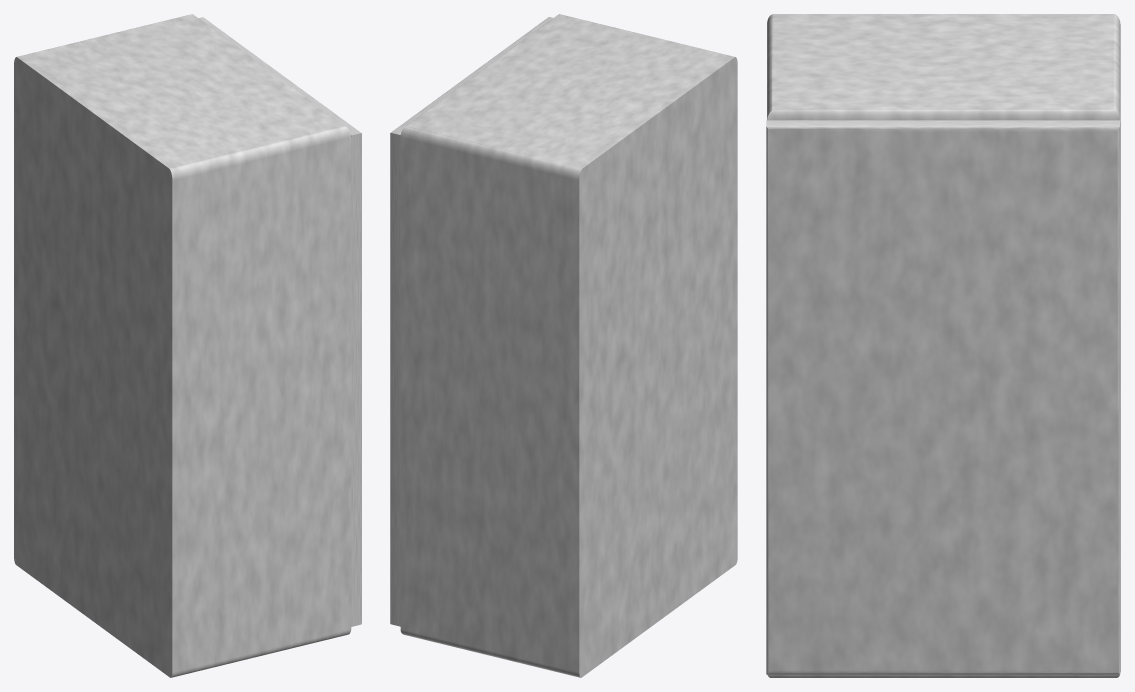
Rendered from SmallFridge_Kitchen.fbx.
The picture shows the model from 3 angles, left to right: view 1: azimuth 30°, elevation 25°; view 2: azimuth 150°, elevation 25°; view 3: azimuth 270°, elevation 25°; orthographic projection. The views are drawn at different scales.
Parts seen in each view (by area): view 1: Cube.166, Cube.167; view 2: Cube.166, Cube.167; view 3: Cube.167, Cube.166.
Part boxes in pixels (box(x1,y1,x2,y2)): Cube.166: box(14, 14, 351, 677); Cube.167: box(198, 17, 361, 626); Cube.166: box(400, 14, 737, 677); Cube.167: box(390, 17, 553, 626); Cube.167: box(766, 120, 1119, 674); Cube.166: box(767, 14, 1120, 677).
Size of the model in its own units: 228 by 581 by 328.
